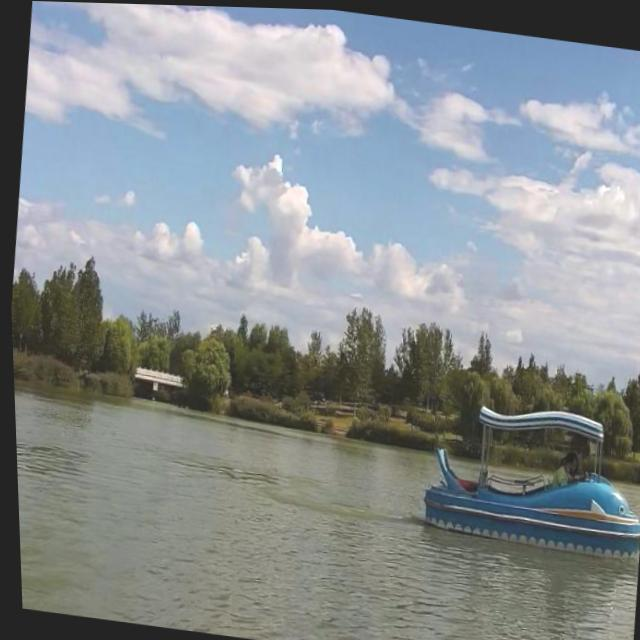ship2: (421, 406, 626, 549)
